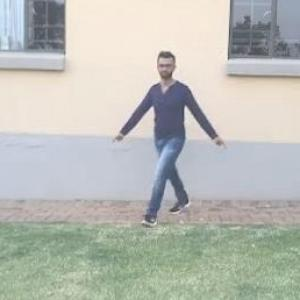land: (108, 45, 234, 235)
